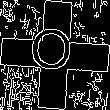O_S: (31, 28, 79, 82)
